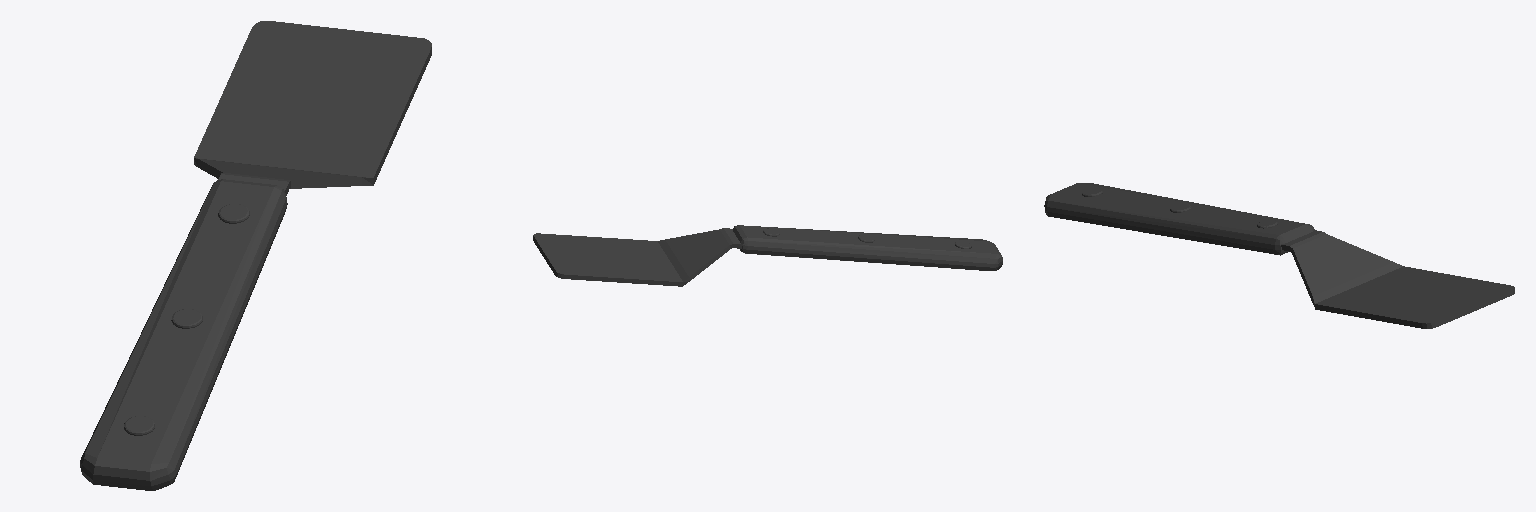
The robot description file, URDF, robot "panda":
<?xml version="1.0" ?>
<!-- =================================================================================== -->
<!-- |    This document was autogenerated by xacro from panda_arm_hand.urdf.xacro      | -->
<!-- |    EDITING THIS FILE BY HAND IS NOT RECOMMENDED                                 | -->
<!-- =================================================================================== -->
<robot name="panda" xmlns:xacro="http://www.ros.org/wiki/xacro">
  <link name="panda_link0">
  	<inertial>
      <origin rpy="0 0 0" xyz="0 0 0.05"/>
       <mass value="2.9"/>
       <inertia ixx="0.1" ixy="0" ixz="0" iyy="0.1" iyz="0" izz="0.1"/>
    </inertial>
    <visual>
      <geometry>
        <mesh filename="package://meshes/collision/link0.obj"/>
      </geometry>
      <material name="panda_white">
    		<color rgba="1. 1. 1. 1."/>
  		</material>
    </visual>
    <collision>
      <geometry>
        <mesh filename="package://meshes/collision/link0.obj"/>
      </geometry>
      <material name="panda_white"/>
    </collision>
  </link>
  <link name="panda_link1">
  	<inertial>
      <origin rpy="0 0 0" xyz="0 -0.04 -0.05"/>
       <mass value="2.7"/>
       <inertia ixx="0.1" ixy="0" ixz="0" iyy="0.1" iyz="0" izz="0.1"/>
    </inertial>
    <visual>
      <geometry>
        <mesh filename="package://meshes/visual/link1.obj"/>
      </geometry>
      <material name="panda_white"/>
    </visual>
    <collision>
      <geometry>
        <mesh filename="package://meshes/collision/link1.obj"/>
      </geometry>
      <material name="panda_white"/>
    </collision>
  </link>
  <joint name="panda_joint1" type="revolute">
    <safety_controller k_position="100.0" k_velocity="40.0" soft_lower_limit="-2.8973" soft_upper_limit="2.8973"/>
    <origin rpy="0 0 0" xyz="0 0 0.333"/>
    <parent link="panda_link0"/>
    <child link="panda_link1"/>
    <axis xyz="0 0 1"/>
    <limit effort="87" lower="-2.9671" upper="2.9671" velocity="2.1750"/>
  </joint>
  <link name="panda_link2">
  	<inertial>
      <origin rpy="0 0 0" xyz="0 -0.04 0.06"/>
       <mass value="2.73"/>
       <inertia ixx="0.1" ixy="0" ixz="0" iyy="0.1" iyz="0" izz="0.1"/>
    </inertial>
    <visual>
      <geometry>
        <mesh filename="package://meshes/visual/link2.obj"/>
      </geometry>
      <material name="panda_white"/>
    </visual>
    <collision>
      <geometry>
        <mesh filename="package://meshes/collision/link2.obj"/>
      </geometry>
      <material name="panda_white"/>
    </collision>
  </link>
  <joint name="panda_joint2" type="revolute">
    <safety_controller k_position="100.0" k_velocity="40.0" soft_lower_limit="-1.7628" soft_upper_limit="1.7628"/>
    <origin rpy="-1.57079632679 0 0" xyz="0 0 0"/>
    <parent link="panda_link1"/>
    <child link="panda_link2"/>
    <axis xyz="0 0 1"/>
    <limit effort="87" lower="-1.8326" upper="1.8326" velocity="2.1750"/>
  </joint>
  <link name="panda_link3">
	  <inertial>
      <origin rpy="0 0 0" xyz="0.01 0.01 -0.05"/>
       <mass value="2.04"/>
       <inertia ixx="0.1" ixy="0" ixz="0" iyy="0.1" iyz="0" izz="0.1"/>
    </inertial>
    <visual>
      <geometry>
        <mesh filename="package://meshes/visual/link3.obj"/>
      </geometry>
      <material name="panda_red">
    		<color rgba="1. 1. 1. 1."/>
  		</material>
    </visual>
    <collision>
      <geometry>
        <mesh filename="package://meshes/collision/link3.obj"/>
      </geometry>
    </collision>
  </link>
  <joint name="panda_joint3" type="revolute">
    <safety_controller k_position="100.0" k_velocity="40.0" soft_lower_limit="-2.8973" soft_upper_limit="2.8973"/>
    <origin rpy="1.57079632679 0 0" xyz="0 -0.316 0"/>
    <parent link="panda_link2"/>
    <child link="panda_link3"/>
    <axis xyz="0 0 1"/>
    <limit effort="87" lower="-2.9671" upper="2.9671" velocity="2.1750"/>
  </joint>
  <link name="panda_link4">
  	<inertial>
      <origin rpy="0 0 0" xyz="-0.03 0.03 0.02"/>
       <mass value="2.08"/>
       <inertia ixx="0.1" ixy="0" ixz="0" iyy="0.1" iyz="0" izz="0.1"/>
    </inertial>
    <visual>
      <geometry>
        <mesh filename="package://meshes/visual/link4.obj"/>
      </geometry>
      <material name="panda_white"/>
    </visual>
    <collision>
      <geometry>
        <mesh filename="package://meshes/collision/link4.obj"/>
      </geometry>
      <material name="panda_white"/>
    </collision>
  </link>
  <joint name="panda_joint4" type="revolute">
    <safety_controller k_position="100.0" k_velocity="40.0" soft_lower_limit="-3.0718" soft_upper_limit="-0.0698"/>
    <origin rpy="1.57079632679 0 0" xyz="0.0825 0 0"/>
    <parent link="panda_link3"/>
    <child link="panda_link4"/>
    <axis xyz="0 0 1"/>
    <limit effort="87" lower="-3.1416" upper="0.0" velocity="2.1750"/>
  </joint>
  <link name="panda_link5">
  	<inertial>
      <origin rpy="0 0 0" xyz="0 0.04 -0.12"/>
       <mass value="3"/>
       <inertia ixx="0.1" ixy="0" ixz="0" iyy="0.1" iyz="0" izz="0.1"/>
    </inertial>
    <visual>
      <geometry>
        <mesh filename="package://meshes/visual/link5.obj"/>
      </geometry>
      <material name="panda_white"/>
    </visual>
    <collision>
      <geometry>
        <mesh filename="package://meshes/collision/link5.obj"/>
      </geometry>
      <material name="panda_white"/>
    </collision>
  </link>
  <joint name="panda_joint5" type="revolute">
    <safety_controller k_position="100.0" k_velocity="40.0" soft_lower_limit="-2.8973" soft_upper_limit="2.8973"/>
    <origin rpy="-1.57079632679 0 0" xyz="-0.0825 0.384 0"/>
    <parent link="panda_link4"/>
    <child link="panda_link5"/>
    <axis xyz="0 0 1"/>
    <limit effort="12" lower="-2.9671" upper="2.9671" velocity="2.6100"/>
  </joint>
  <link name="panda_link6">
  	<inertial>
      <origin rpy="0 0 0" xyz="0.04 0 0"/>
       <mass value="1.3"/>
       <inertia ixx="0.1" ixy="0" ixz="0" iyy="0.1" iyz="0" izz="0.1"/>
    </inertial>
    <visual>
      <geometry>
        <mesh filename="package://meshes/visual/link6.obj"/>
      </geometry>
      <material name="panda_white"/>
    </visual>
    <collision>
      <geometry>
        <mesh filename="package://meshes/collision/link6.obj"/>
      </geometry>
      <material name="panda_white"/>
    </collision>
  </link>
  <joint name="panda_joint6" type="revolute">
    <safety_controller k_position="100.0" k_velocity="40.0" soft_lower_limit="-0.0175" soft_upper_limit="3.7525"/>
    <origin rpy="1.57079632679 0 0" xyz="0 0 0"/>
    <parent link="panda_link5"/>
    <child link="panda_link6"/>
    <axis xyz="0 0 1"/>
    <limit effort="12" lower="-0.0873" upper="3.8223" velocity="2.6100"/>
  </joint>
  <link name="panda_link7">
  	<inertial>
      <origin rpy="0 0 0" xyz="0 0 0.08"/>
       <mass value=".2"/>
       <inertia ixx="0.1" ixy="0" ixz="0" iyy="0.1" iyz="0" izz="0.1"/>
    </inertial>
    <visual>
      <geometry>
        <mesh filename="package://meshes/collision/link7.obj"/>
      </geometry>
      <material name="panda_white"/>
    </visual>
    <collision>
      <geometry>
        <mesh filename="package://meshes/collision/link7.obj"/>
      </geometry>
      <material name="panda_white"/>
    </collision>
  </link>
  <joint name="panda_joint7" type="revolute">
    <safety_controller k_position="100.0" k_velocity="40.0" soft_lower_limit="-2.8973" soft_upper_limit="2.8973"/>
    <origin rpy="1.57079632679 0 0" xyz="0.088 0 0"/>
    <parent link="panda_link6"/>
    <child link="panda_link7"/>
    <axis xyz="0 0 1"/>
    <limit effort="12" lower="-2.9671" upper="2.9671" velocity="2.6100"/>
  </joint>
  <link name="panda_link8">
  	 <inertial>
      <origin rpy="0 0 0" xyz="0 0 0"/>
       <mass value="0.0"/>
       <inertia ixx="0.1" ixy="0" ixz="0" iyy="0.1" iyz="0" izz="0.1"/>
    </inertial>
  </link>
  <joint name="panda_joint8" type="fixed">
    <origin rpy="0 0 0" xyz="0 0 0.107"/>
    <parent link="panda_link7"/>
    <child link="panda_link8"/>
    <axis xyz="0 0 0"/>
  </joint>
  <joint name="panda_hand_joint" type="fixed">
    <parent link="panda_link8"/>
    <child link="panda_hand"/>
    <origin rpy="0 0 -0.785398163397" xyz="0 0 0"/>
  </joint>
  <link name="panda_hand">
  	<inertial>
      <origin rpy="0 0 0" xyz="0 0 0.04"/>
       <mass value=".81"/>
       <inertia ixx="0.1" ixy="0" ixz="0" iyy="0.1" iyz="0" izz="0.1"/>
    </inertial>
    <visual>
      <geometry>
        <mesh filename="package://meshes/visual/hand.obj"/>
      </geometry>
      <material name="panda_white"/>
    </visual>
    <collision>
      <geometry>
        <mesh filename="package://meshes/collision/hand.obj"/>
      </geometry>
      <material name="panda_white"/>
    </collision>
  </link>
  <link name="panda_leftfinger">
       <contact>
      <friction_anchor/>
      <stiffness value="30000.0"/>
      <damping value="1000.0"/>
      <spinning_friction value="0.1"/>
      <lateral_friction value="1.0"/>
    </contact>
  	<inertial>
      <origin rpy="0 0 0" xyz="0 0.01 0.02"/>
       <mass value="0.1"/>
       <inertia ixx="0.1" ixy="0" ixz="0" iyy="0.1" iyz="0" izz="0.1"/>
    </inertial>
    <visual>
      <geometry>
        <mesh filename="package://meshes/visual/finger.obj"/>
      </geometry>
      <material name="panda_white"/>
    </visual>
    <collision>
      <geometry>
        <mesh filename="package://meshes/collision/finger.obj"/>
      </geometry>
      <material name="panda_white"/>
    </collision>
  </link>
  <link name="panda_rightfinger">
        <contact>
      <friction_anchor/>
      <stiffness value="30000.0"/>
      <damping value="1000.0"/>
      <spinning_friction value="0.1"/>
      <lateral_friction value="1.0"/>
    </contact>

  	<inertial>
      <origin rpy="0 0 0" xyz="0 -0.01 0.02"/>
       <mass value="0.1"/>
       <inertia ixx="0.1" ixy="0" ixz="0" iyy="0.1" iyz="0" izz="0.1"/>
    </inertial>
    <visual>
      <origin rpy="0 0 3.14159265359" xyz="0 0 0"/>
      <geometry>
        <mesh filename="package://meshes/visual/finger.obj"/>
      </geometry>
      <material name="panda_white"/>
    </visual>
    <collision>
      <origin rpy="0 0 3.14159265359" xyz="0 0 0"/>
      <geometry>
        <mesh filename="package://meshes/collision/finger.obj"/>
      </geometry>
      <material name="panda_white"/>
    </collision>
  </link>
  <joint name="panda_finger_joint1" type="fixed">
    <parent link="panda_hand"/>
    <child link="panda_leftfinger"/>
    <origin rpy="0 0 0" xyz="0 0 0.0584"/>
    <axis xyz="0 1 0"/>
    <limit effort="20" lower="0.0" upper="0.04" velocity="0.2"/>
  </joint>
  <joint name="panda_finger_joint2" type="fixed">
    <parent link="panda_hand"/>
    <child link="panda_rightfinger"/>
    <origin rpy="0 0 0" xyz="0 0 0.0584"/>
    <axis xyz="0 -1 0"/>
    <limit effort="20" lower="0.0" upper="0.04" velocity="0.2"/>
    <mimic joint="panda_finger_joint1"/>
  </joint>

  <link name="spatula">
    <inertial>
      <origin rpy="0 0 0" xyz="0 0 0"/>
      <mass value="0.001"/>
      <inertia ixx="1" ixy="0" ixz="0" iyy="1" iyz="0" izz="1"/>
    </inertial>
    <visual>
      <origin rpy="-1.5708 0 -1.5708" xyz="0 0 0"/>
      <geometry>
        <mesh filename="package://meshes/Spatula.obj" scale="0.04 0.04 0.04"/>
      </geometry>
      <material name="gray">
        <color rgba="0.3 0.3 0.3 1"/>
      </material>
    </visual>
    <collision>
      <origin rpy="-1.5708 0 -1.5708" xyz="0 0 0"/>
      <geometry>
        <mesh filename="package://meshes/Spatula.obj" scale="0.04 0.04 0.04"/>
      </geometry>
    </collision>
  </link>

  <joint name="spatula_fixed" type="fixed">
    <parent link="panda_rightfinger"/>
    <child link="spatula"/>
    <origin xyz="0.1 -0.01 0.05" rpy="0 0.188 0"/>
  </joint>

   <link name="panda_grasptarget">
    <inertial>
      <origin rpy="0 0 0" xyz="0 0 0"/>
       <mass value="0.0"/>
       <inertia ixx="0.1" ixy="0" ixz="0" iyy="0.1" iyz="0" izz="0.1"/>
    </inertial>
   </link>
   <joint name="panda_grasptarget_hand" type="fixed">
    <parent link="panda_hand"/>
    <child link="panda_grasptarget"/>
    <origin rpy="0 0 0" xyz="0 0 0.105"/>
  </joint>
  
</robot>

--- What the picture shows (computed from the rendered views, not written in the file) ---
Views: 3 orthographic renders of the robot side by side, from view 1: azimuth 30°, elevation 25°; view 2: azimuth 150°, elevation 25°; view 3: azimuth 270°, elevation 25°.
Robot: panda — 14 links, 13 joints (7 revolute, 6 fixed); root link panda_link0; default pose: all joints at 0.
Links seen in each view (by area): view 1: spatula; view 2: spatula; view 3: spatula.
Link boxes in pixels (<box>): spatula: <box>80,21,431,490</box>; spatula: <box>533,225,1002,286</box>; spatula: <box>1044,183,1514,328</box>.
Bounding box of the posed robot: 0.2284 × 0.2284 × 0.04 m (x, y, z).
Meshes: 11 distinct files referenced, 1 mesh visuals loaded (1 OBJ); not drawn: 11 (reference not matched to a file when rendering).